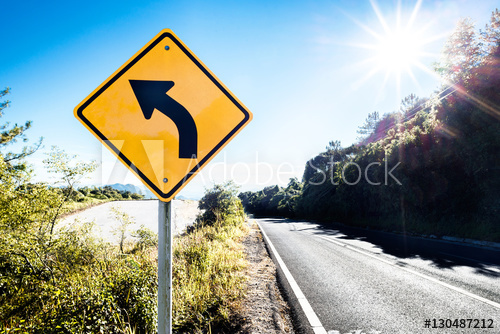left: (74, 28, 255, 203)
